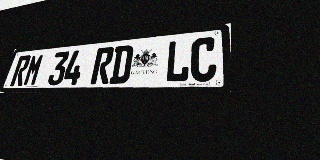3: (47, 51, 70, 85)
4: (62, 49, 86, 85)
C: (189, 36, 217, 82)
D: (109, 45, 134, 84)
L: (164, 39, 191, 83)
M: (22, 54, 45, 86)
R: (90, 47, 115, 84), (10, 55, 32, 86)
